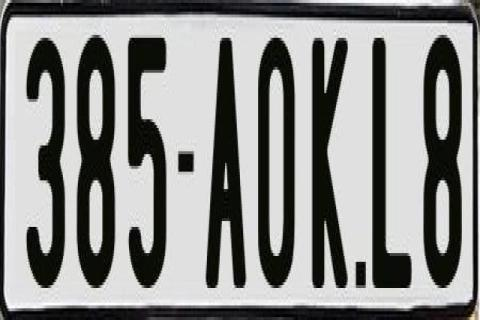0: (255, 35, 298, 291), (422, 35, 465, 291), (128, 32, 169, 282), (23, 38, 63, 291), (78, 29, 116, 291)
A: (206, 38, 252, 300)
K: (312, 29, 347, 291)
L: (371, 35, 415, 294)
